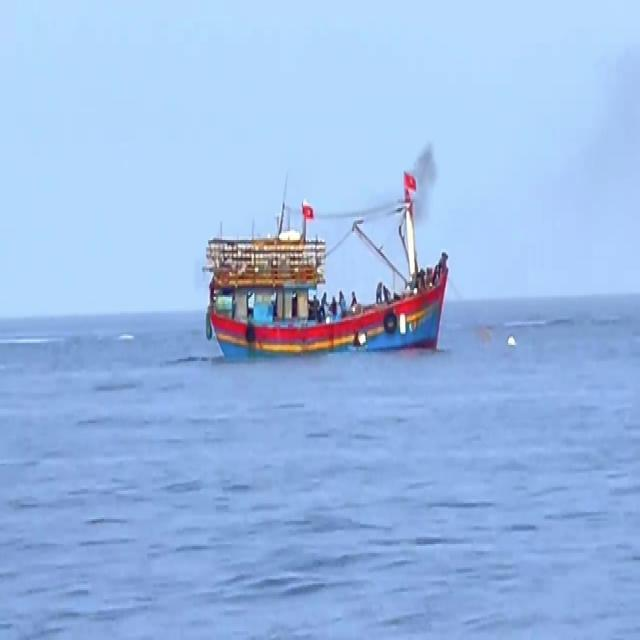Ship: (198, 191, 452, 364)
